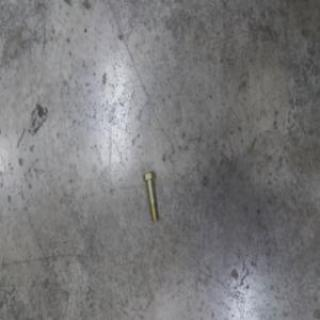Bolttrack_idkeyframe: (142, 168, 158, 222)
